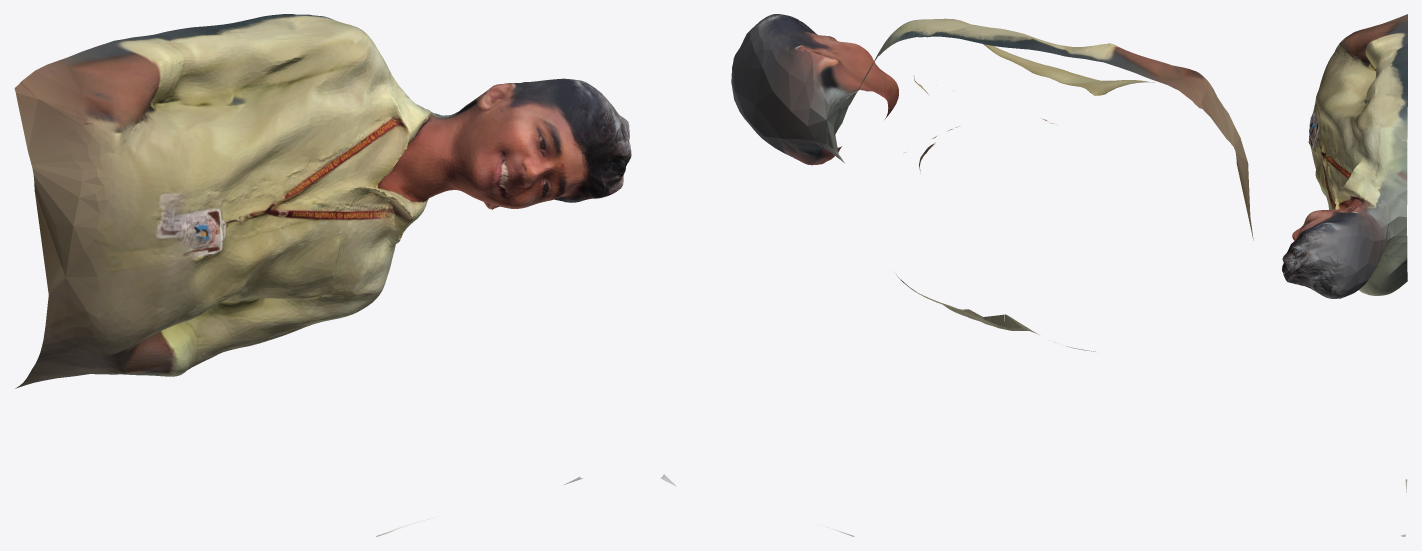
3 renders of one model, left to right at view 1: azimuth 30°, elevation 25°; view 2: azimuth 150°, elevation 25°; view 3: azimuth 270°, elevation 25°, orthographic. The views are drawn at different scales.
Bounding box in the file's own units: 1.47 × 1.37 × 0.4293.
1 material, 1 textured.
